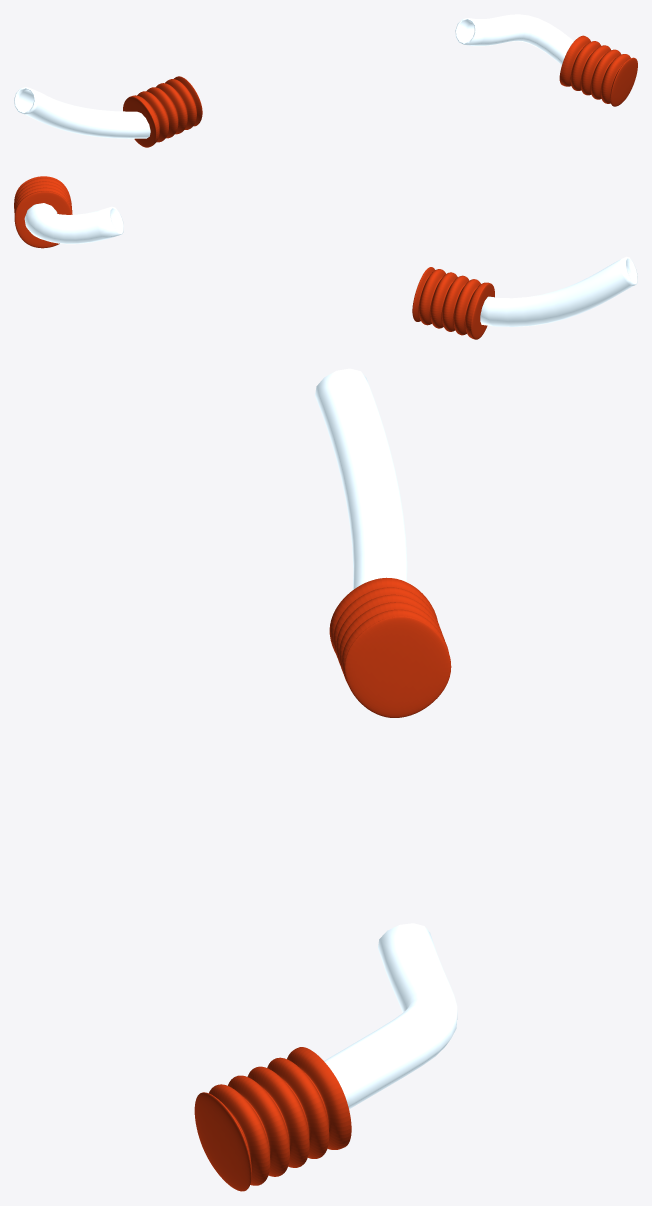
The model's file is arm.glb.
3 renders of one model, top to bottom at view 1: azimuth 30°, elevation 25°; view 2: azimuth 150°, elevation 25°; view 3: azimuth 270°, elevation 25°, orthographic. The views are drawn at different scales.
Visible parts, largest first — view 1: ARM; view 2: ARM; view 3: ARM.
Boxes of the visible parts, <box> form: ARM: <box>14,14,637,147</box>; ARM: <box>14,176,637,339</box>; ARM: <box>194,368,457,1191</box>.
Bounding box in the file's own units: 7.09 × 1.52 × 1.35.
